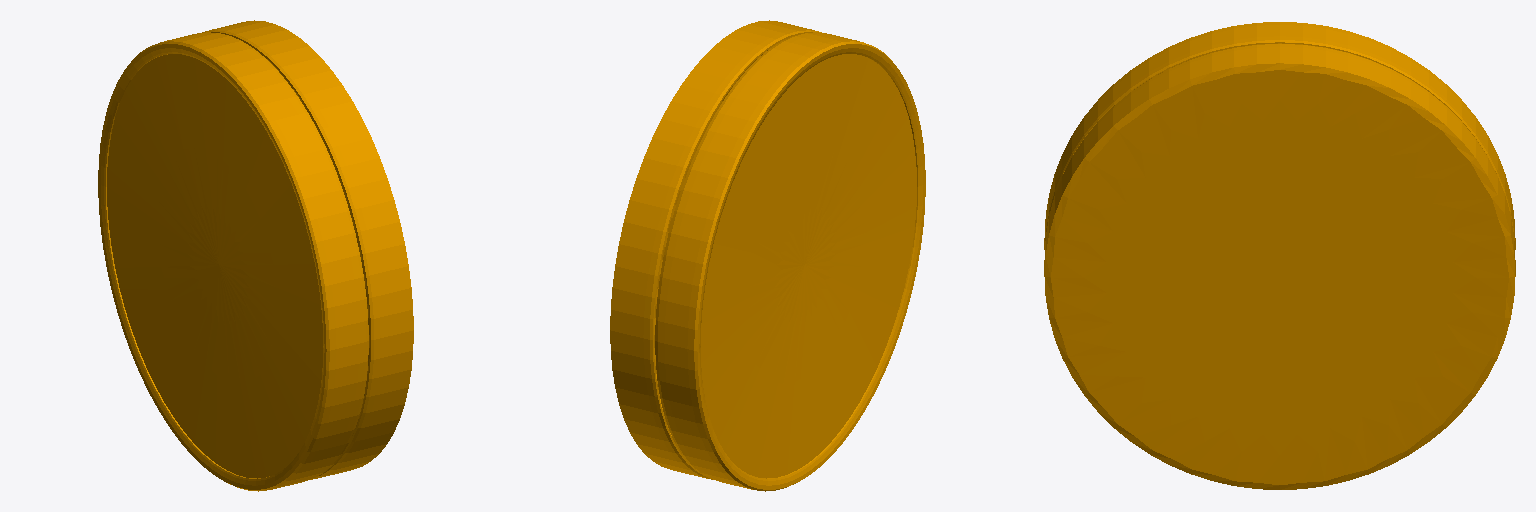
The robot description file, URDF, robot "cheese":
<?xml version="1.0"?>
<robot name="cheese">
  <link name="cheese">
    <visual>
      <origin xyz="0.0 0.0 0.0" rpy="0.0 0.0 1.5708"/>
      <geometry>
        <mesh filename="cheese.obj" scale="0.03 0.03 0.03"/>
      </geometry>
    </visual>
    <collision>
      <origin xyz="0.0 0.0 0.0" rpy="0.0 0.0 1.5708"/>
      <geometry>
        <mesh filename="cheese.obj" scale="0.03 0.03 0.03"/>
      </geometry>
    </collision>
    <inertial>
      <mass value="0.5"/>
      <inertia ixx="0.0001" ixy="0.0" ixz="0.0" iyy="0.0001" iyz="0.0" izz="0.0001"/>
    </inertial>
  </link>
</robot>

--- Render facts (derived) ---
The picture shows the robot from 3 angles, left to right: view 1: azimuth 30°, elevation 25°; view 2: azimuth 150°, elevation 25°; view 3: azimuth 270°, elevation 25°; orthographic projection.
Robot: cheese — 1 links, 0 joints (none); root link cheese; default pose: all joints at 0.
Visible links, largest first — view 1: cheese; view 2: cheese; view 3: cheese.
Link boxes in pixels (bbox=[...]): cheese: bbox=[98, 20, 413, 491]; cheese: bbox=[610, 20, 925, 491]; cheese: bbox=[1044, 22, 1515, 489].
Bounding box of the posed robot: 0.032 × 0.1452 × 0.1452 m (x, y, z).
Meshes: 1 distinct files referenced, 1 mesh visuals loaded (1 OBJ).